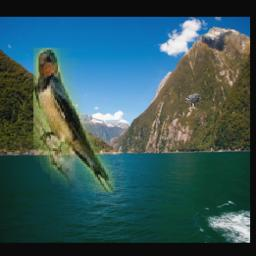Crow: (185, 94, 202, 109)
Swallow: (34, 48, 116, 192)
